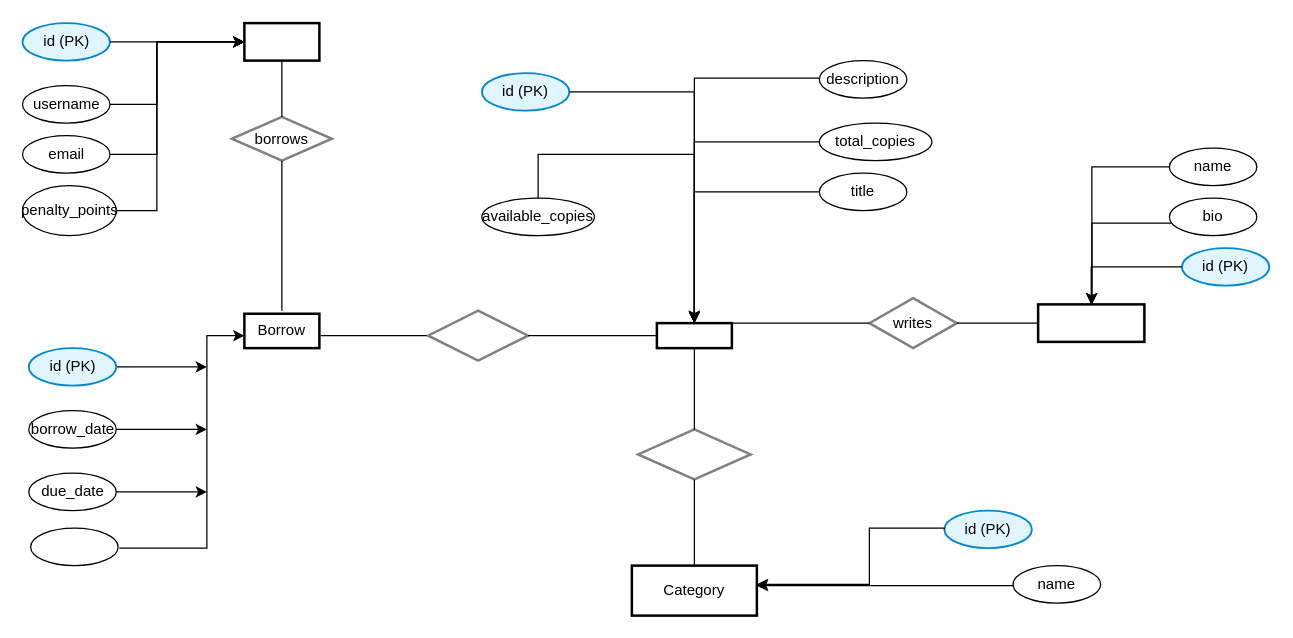
Image size: 1293x638. Some labels were removed from this diagram. Each missing label, with the centre of its shape:
"Author" goes at pixel 1090 322.
"Book" goes at pixel 693 335.
"classifies" goes at pixel 693 454.
"included in" goes at pixel 477 335.
"return_date" goes at pixel 73 546.
"User" goes at pixel 281 41.
